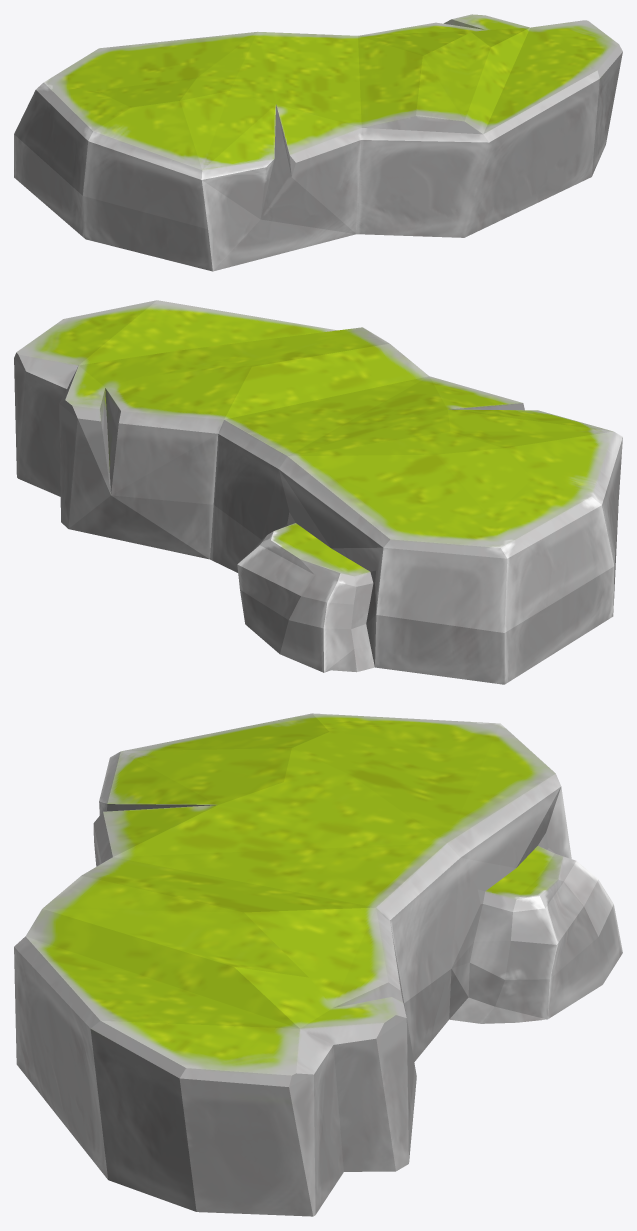
File: landblocks5.fbx
3 renders of one model, top to bottom at view 1: azimuth 30°, elevation 25°; view 2: azimuth 150°, elevation 25°; view 3: azimuth 270°, elevation 25°, orthographic. The views are drawn at different scales.
Visible parts, largest first — view 1: landblocks5; view 2: landblocks5; view 3: landblocks5.
Part boxes in pixels (bbox=[...]): landblocks5: bbox=[14, 14, 622, 271]; landblocks5: bbox=[14, 300, 622, 684]; landblocks5: bbox=[14, 713, 622, 1216].
Bounding box in the file's own units: 1011 × 228 × 703.
